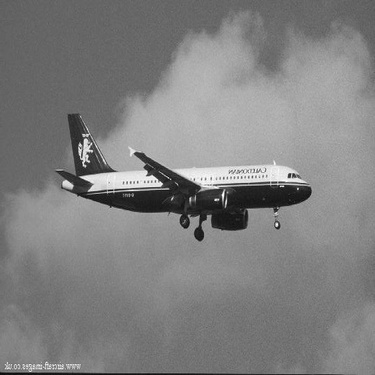airplane: (43, 106, 317, 237)
